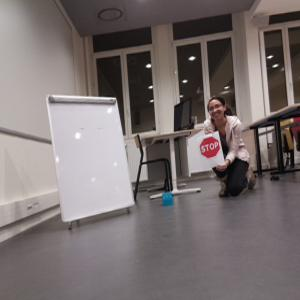stop: (199, 137, 220, 158)
